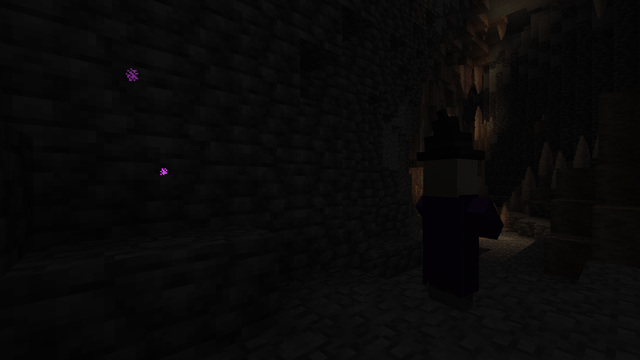sorcieres: (416, 151, 482, 319)
